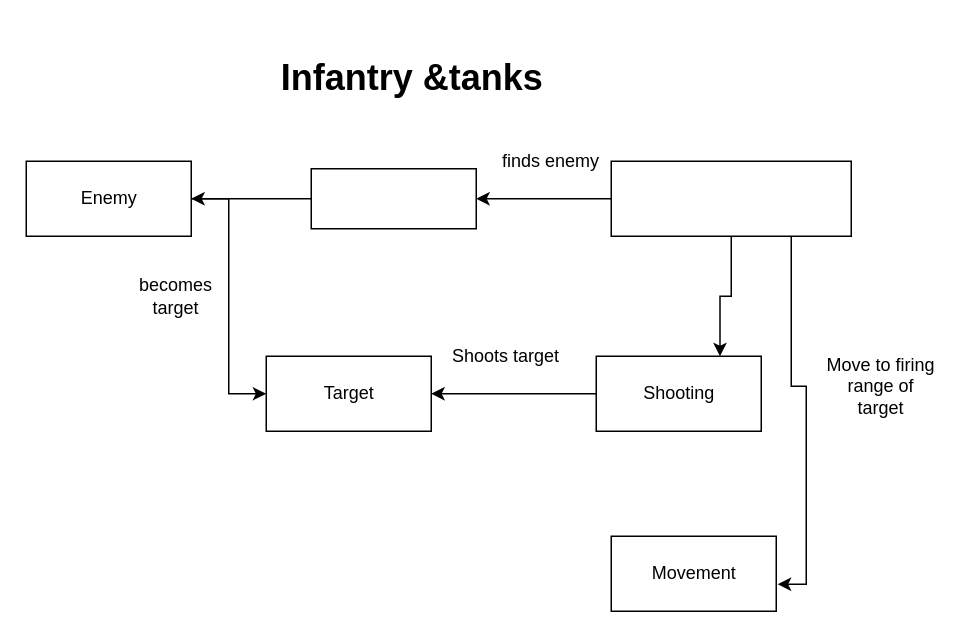
The diagram is 968 pixels wide and 638 high, and some of its shapes have lost their labels. The box of each missing label's shape, as (x1, y1, x2, y2) in pixels:
Detection component: (610, 160, 851, 236)
Sphere/ cone Cast: (310, 167, 476, 229)
